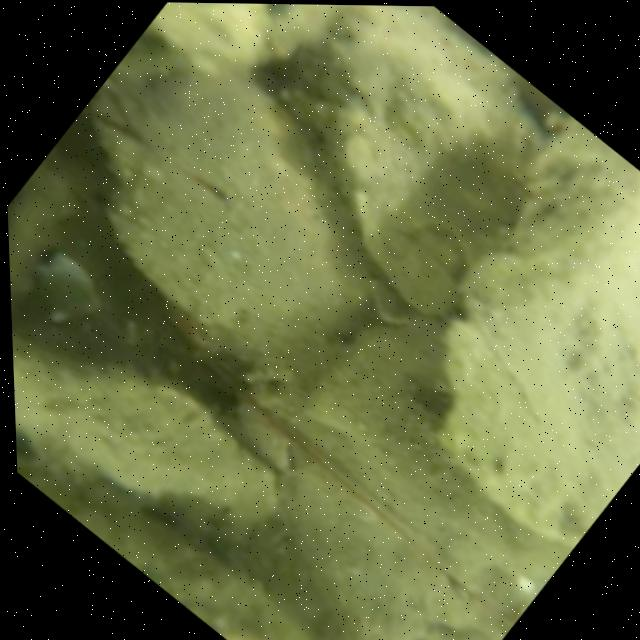Oyster-Indeterminate: (97, 69, 373, 373), (442, 125, 640, 548), (273, 5, 540, 317), (13, 340, 279, 539)
